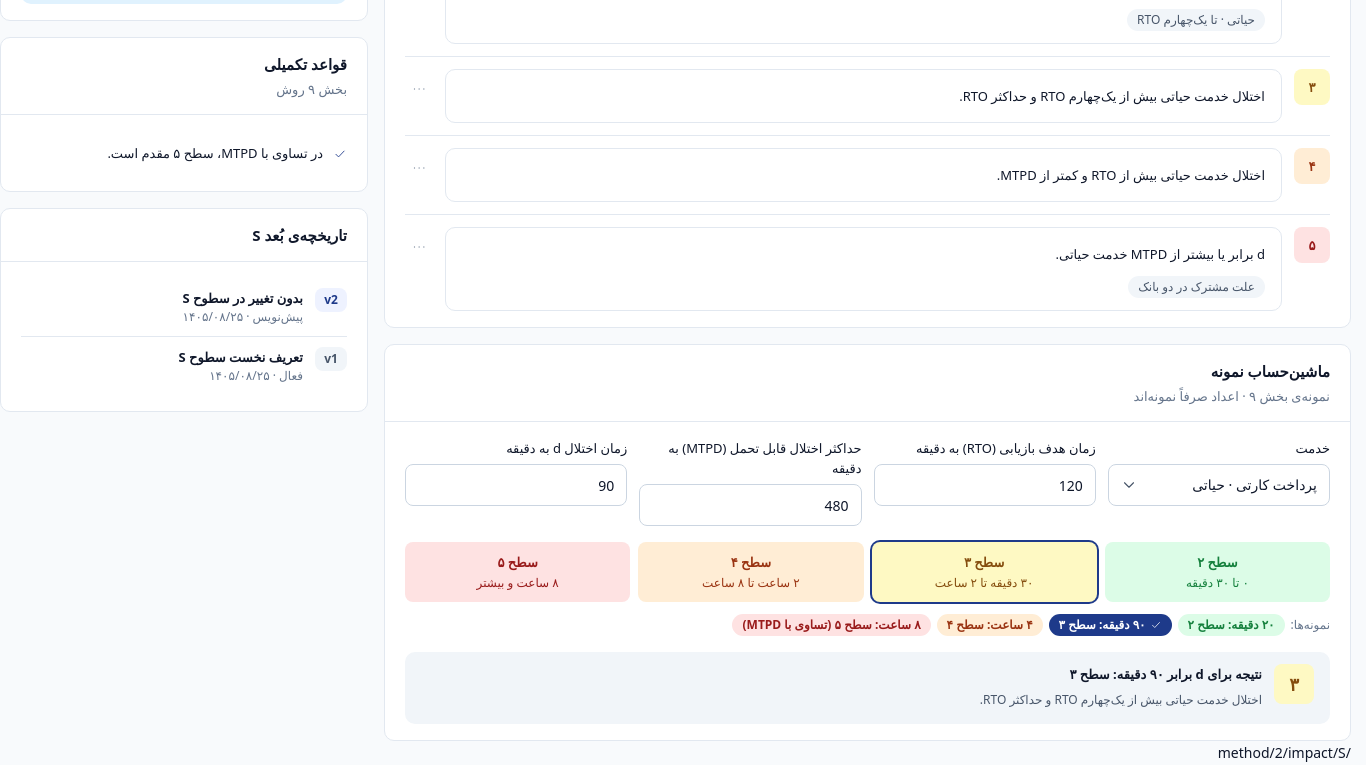
ImpactLevelsPage › computes the sample S level from the duration
(page scrolled)
Expected: the text "نتیجه برای d برابر ۹۰ دقیقه: سطح ۳" is shown, [1069,665,1262,683]
Replace the text in the field labelled "زمان اختلال d به دقیقه" with "480": (516, 485) [405,464,627,506]
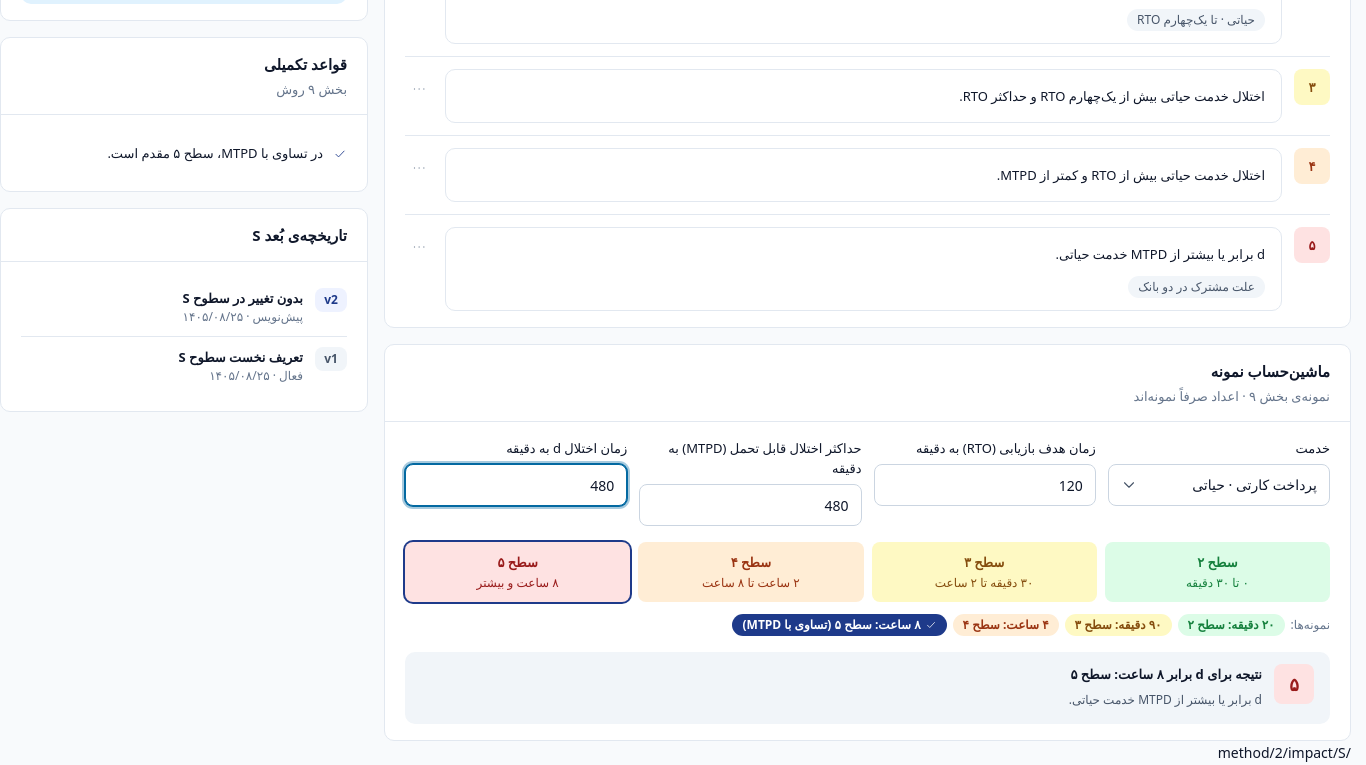
Expected: the text "نتیجه برای d برابر ۸ ساعت: سطح ۵" is shown, [1069,664,1262,684]
خدمت غیرحیاتی با RTO ۲۴۰: هشت ساعت از RTO گذشته و سطح ۳ است.
Select "پورتال گزارش · غیرحیاتی" in the dropdown labelled "خدمت": (1219, 485) [1108,464,1330,506]
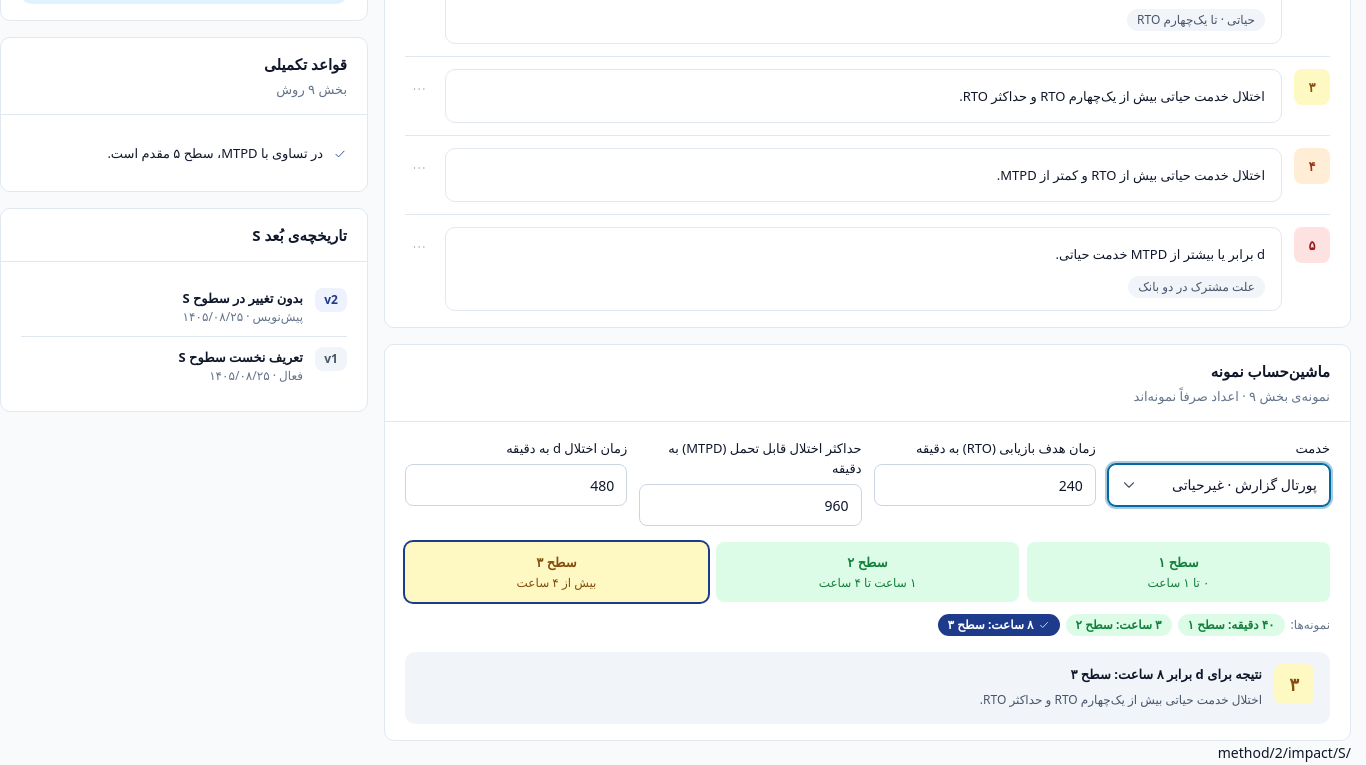
Expected: the text "نتیجه برای d برابر ۸ ساعت: سطح ۳" is shown, [1070,665,1262,683]
